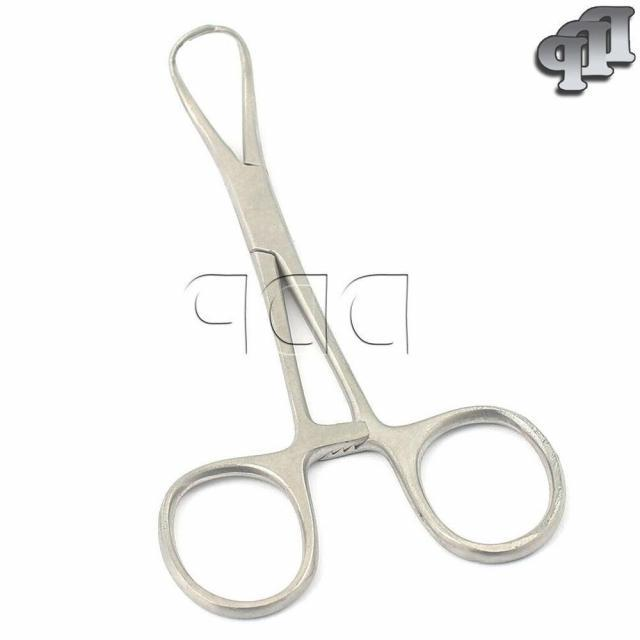Towel_clip: (152, 21, 570, 625)
